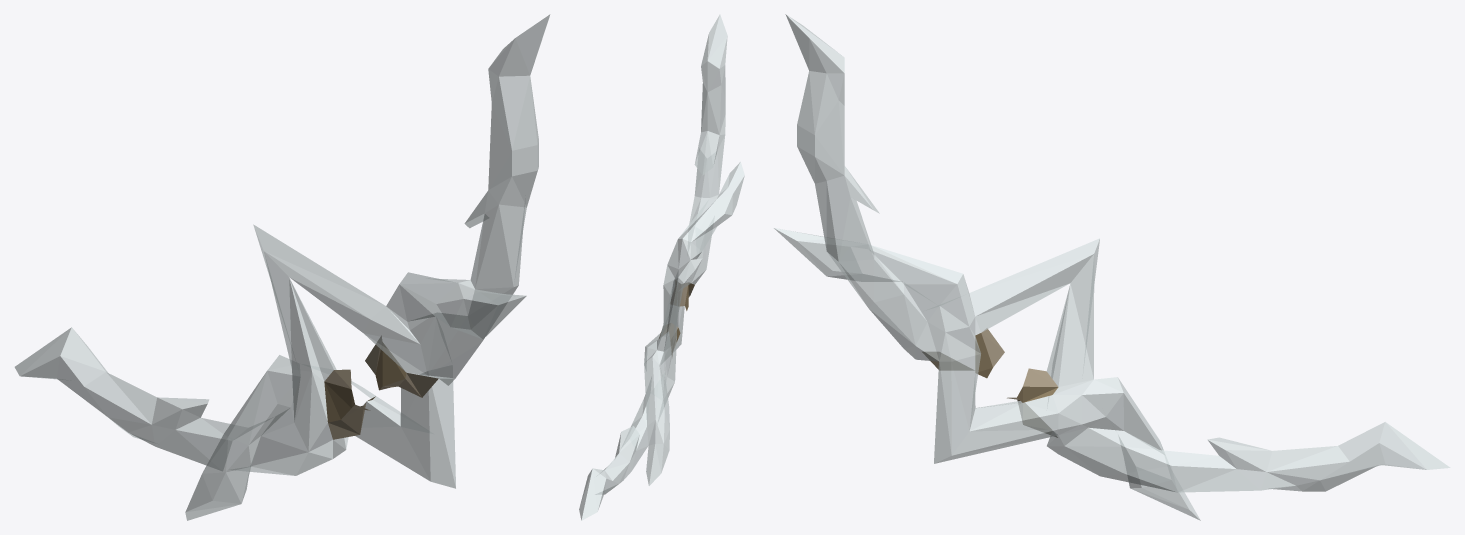
Rendered from player_bow_of_faerdhinen.glb.
The picture shows the model from 3 angles, left to right: view 1: azimuth 30°, elevation 25°; view 2: azimuth 150°, elevation 25°; view 3: azimuth 270°, elevation 25°; orthographic projection. The views are drawn at different scales.
Bounding box in the file's own units: 25.99 × 103 × 114.
2 materials, 2 textured.
